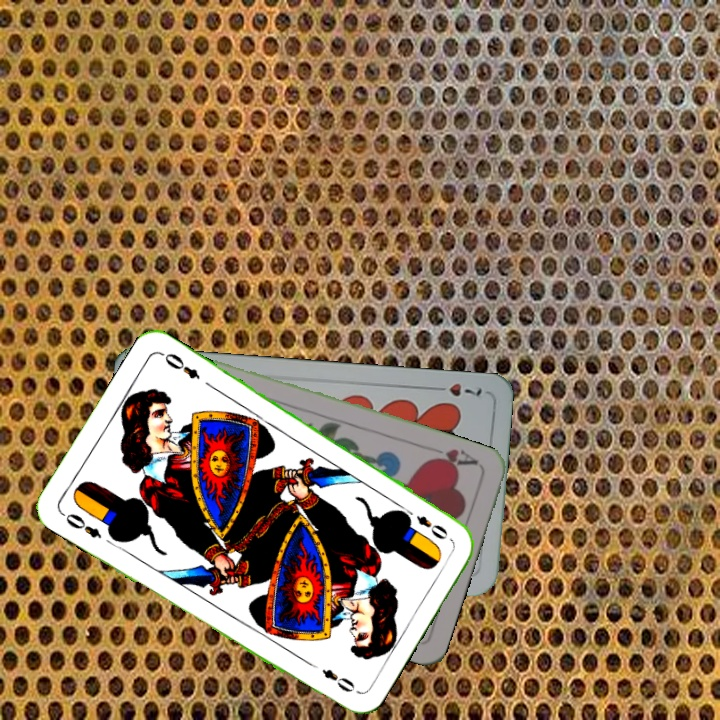EO: (400, 504, 451, 542), (57, 508, 105, 542)
H7: (428, 379, 484, 399)
HA: (423, 442, 481, 472)
